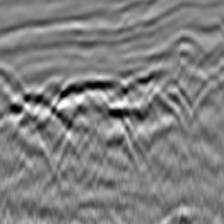cavities: (8, 73, 179, 133)
